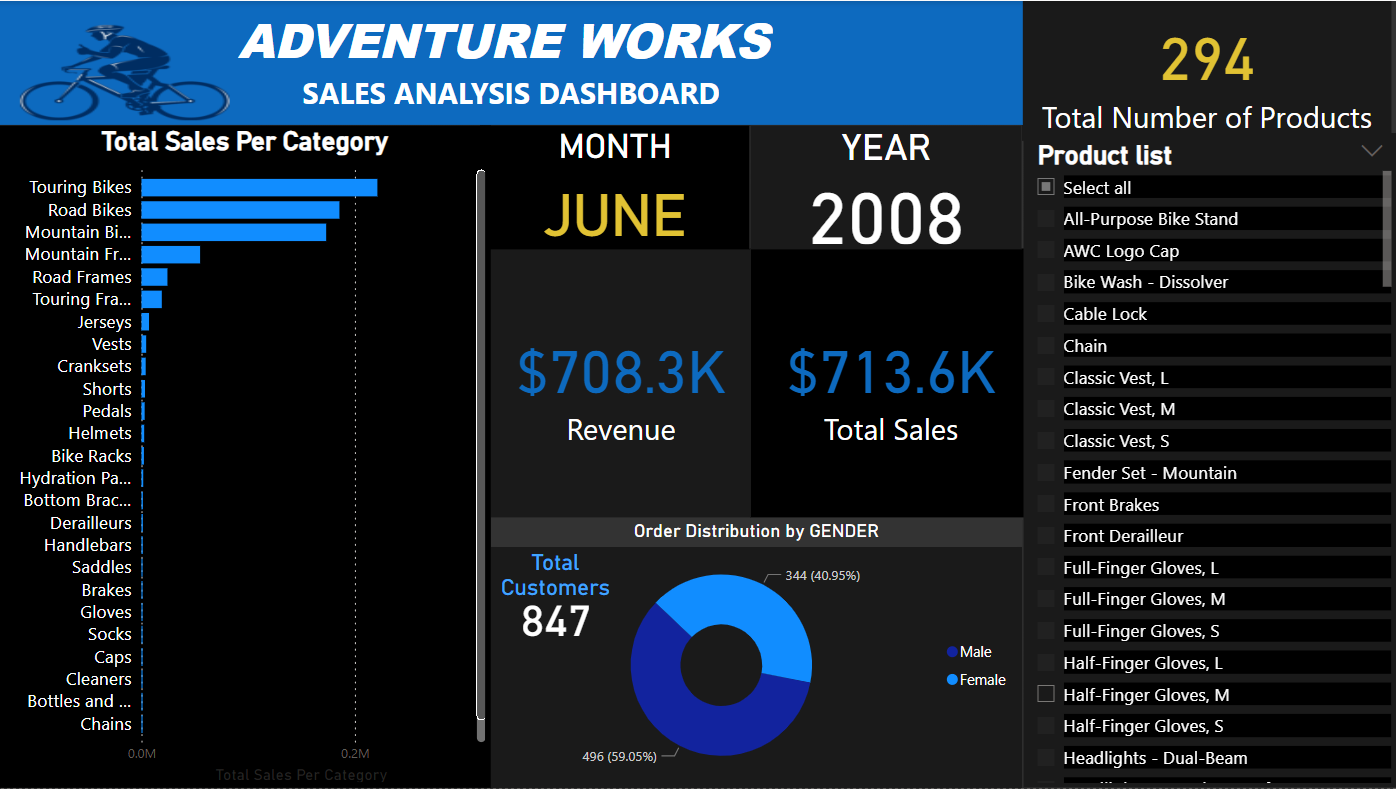

This screenshot's page, from the dashboard's own definition file:
{"tool":"powerbi","page":{"name":"Page 1","canvas":[1280,720],"ordinal":0},"visuals":[{"type":"card","fields":{"Values":["SalesOrderDetail.Total Sales"]},"box":[687.2,226.7,256.8,246.2],"z":0},{"type":"card","fields":{"Values":["SalesOrderDetail.Revenue"]},"box":[449.9,226.7,237.3,246.2],"z":1000},{"type":"card","fields":{"Values":["Product.Total Number of Products"]},"box":[936.3,0,337.9,127.9],"z":2000},{"type":"slicer","fields":{"Values":["Product.Name"]},"box":[937,120.4,341.8,598.7],"z":3000},{"type":"donutChart","title":"Order Distribution by GENDER ","fields":{"Y":["Divide(CountNonNull(Customer.Title), ScopedEval(CountNonNull(Customer.Title), []))"],"Category":["Customer.Gender"]},"box":[450.1,474.8,485.8,245.6],"z":4000},{"type":"actionButton","box":[0,0,100,40],"z":5000},{"type":"card","title":"MONTH","fields":{"Values":["Min(SalesOrderHeader.Month)"]},"box":[441,113.4,246.2,113.4],"z":6000},{"type":"card","title":"YEAR","fields":{"Values":["Min(SalesOrderHeader.Year)"]},"box":[687.2,113.4,248,113.4],"z":7000},{"type":"textbox","box":[0,0,937,113.4],"z":8000},{"type":"image","box":[14.2,15.8,202.1,97.9],"z":9000},{"type":"clusteredBarChart","title":"Total Sales Per Category","fields":{"Category":["ProductCategory.Name"],"Y":["ProductCategory.Total Sales Per Category"]},"box":[0,113.4,449.9,605.8],"z":10000},{"type":"card","title":"Total Customers","fields":{"Values":["Count(Customer.Customer_ID)"]},"box":[450.1,500.9,118,97.4],"z":11000}]}

Visuals, with their boxes in screenshot pixels (x1, y1, x2, y2), scaled from the page's 1280x720 canvas onto the 1396x789 screenshot:
card - SalesOrderDetail.Total Sales: [749, 248, 1030, 518]
card - SalesOrderDetail.Revenue: [491, 248, 749, 518]
card - Product.Total Number of Products: [1021, 0, 1390, 140]
slicer - Product.Name: [1022, 132, 1395, 788]
"Order Distribution by GENDER " donutChart: [491, 520, 1021, 788]
actionButton: [0, 0, 109, 44]
"MONTH" card: [481, 124, 749, 249]
"YEAR" card: [749, 124, 1020, 249]
textbox: [0, 0, 1022, 124]
image: [15, 17, 236, 125]
"Total Sales Per Category" clusteredBarChart: [0, 124, 491, 788]
"Total Customers" card: [491, 549, 620, 656]
